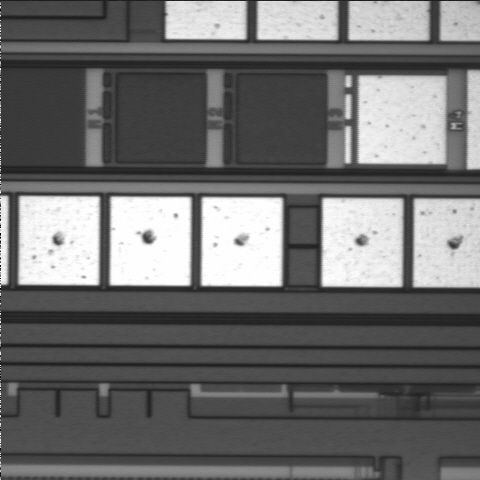pad: (358, 76, 446, 164), (201, 197, 283, 286), (19, 196, 100, 285), (110, 197, 191, 286), (322, 198, 403, 287)
